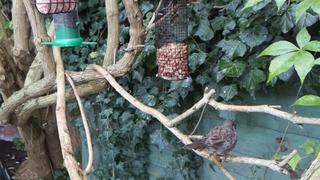dunnock: (181, 118, 237, 162)
